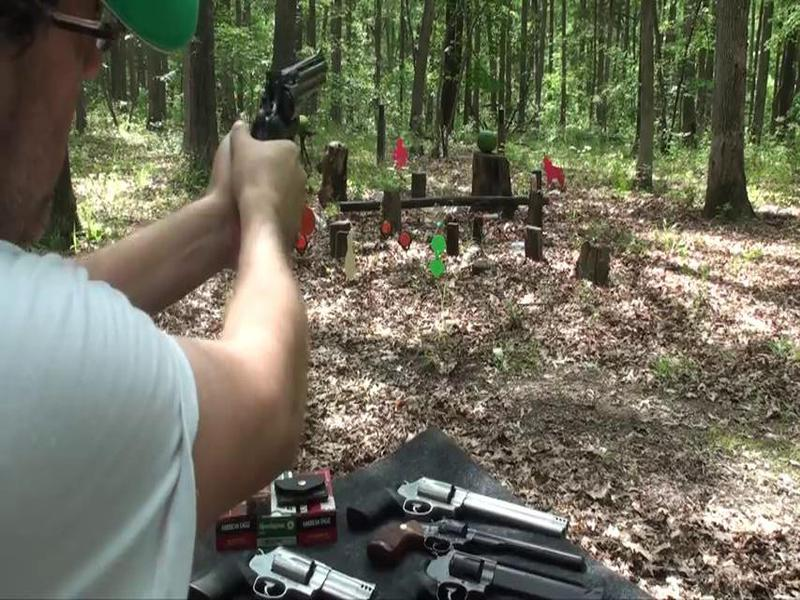Revolver: (227, 44, 349, 159)
